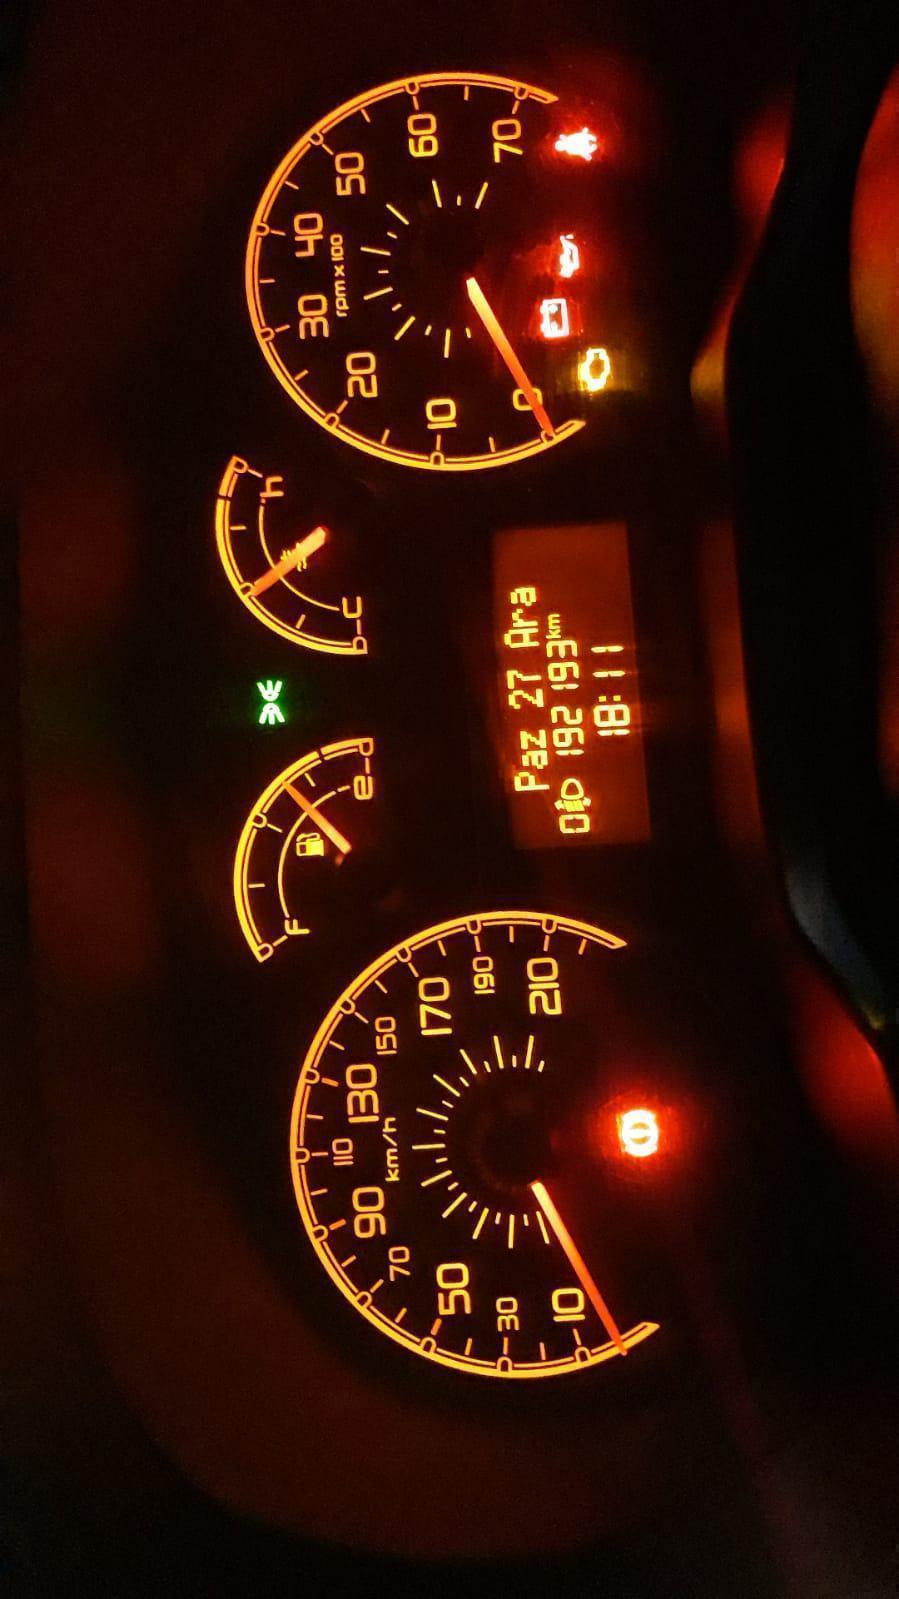0: (555, 812, 592, 835)
1: (589, 666, 629, 679), (595, 725, 634, 737), (589, 642, 628, 655), (547, 681, 582, 691), (553, 748, 586, 758)
2: (507, 687, 543, 711), (548, 704, 583, 724)
3: (544, 639, 578, 659)
7: (505, 667, 541, 687)
8: (591, 704, 631, 727)
9: (550, 728, 586, 746), (546, 661, 578, 680)
X: (501, 627, 540, 650), (512, 772, 550, 792), (516, 726, 549, 749), (519, 749, 549, 768), (508, 586, 536, 606), (510, 607, 538, 627), (593, 692, 623, 702), (547, 612, 561, 628), (544, 627, 561, 639)
odometer: (476, 511, 661, 856)
